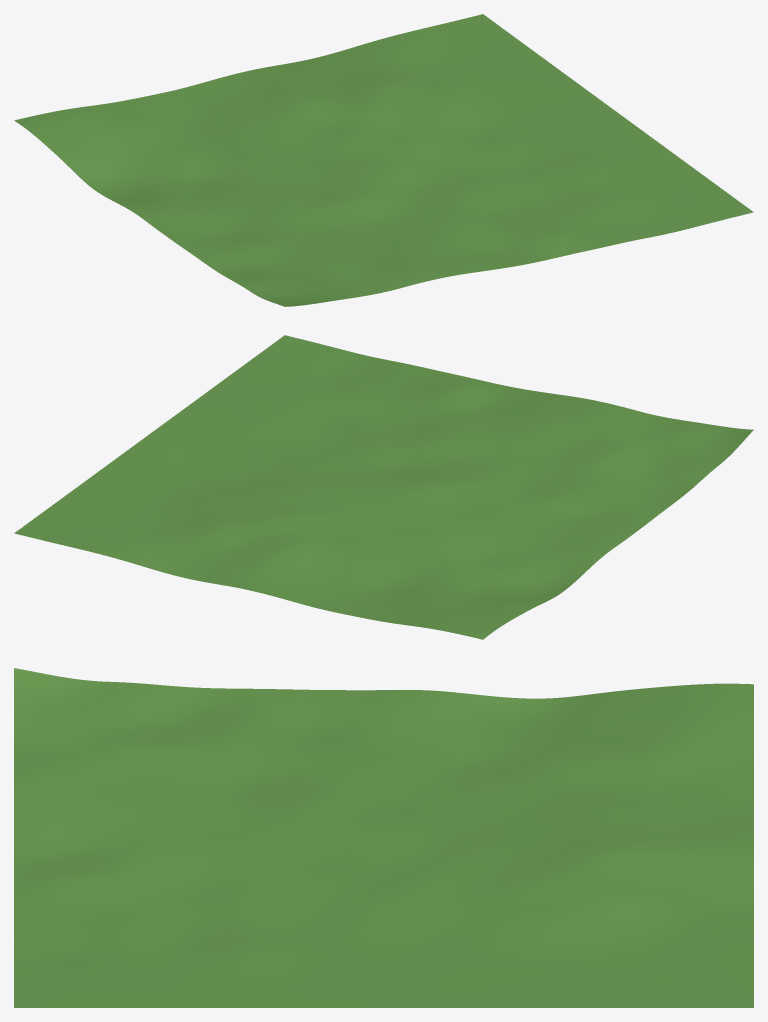
Rendered from SM_Terrain_07_01.fbx.
The picture shows the model from 3 angles, top to bottom: view 1: azimuth 30°, elevation 25°; view 2: azimuth 150°, elevation 25°; view 3: azimuth 270°, elevation 25°; orthographic projection. The views are drawn at different scales.
Visible parts, largest first — view 1: SM_Terrain_07_01; view 2: SM_Terrain_07_01; view 3: SM_Terrain_07_01.
Boxes of the visible parts, x1,y1,x2,y2 form: SM_Terrain_07_01: (14,14,753,306); SM_Terrain_07_01: (14,335,753,639); SM_Terrain_07_01: (14,668,753,1007).
Size of the model in its own units: 384 by 19.25 by 384.
